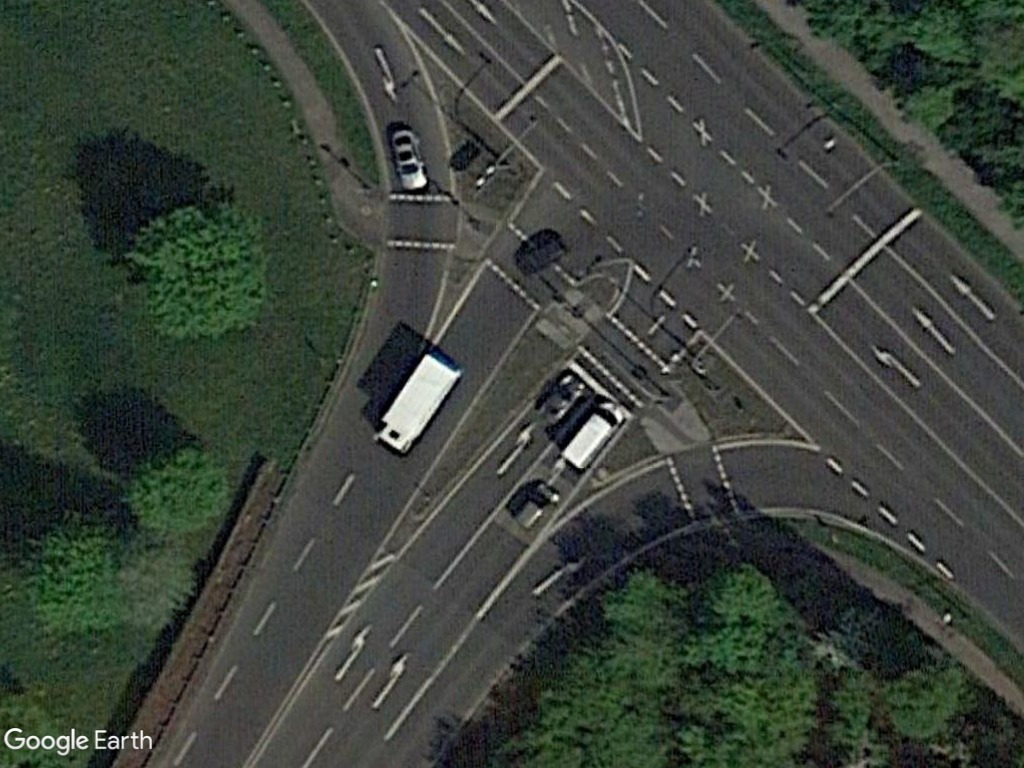car: (384, 121, 431, 201)
truck: (368, 342, 467, 460)
van: (557, 394, 632, 472)
